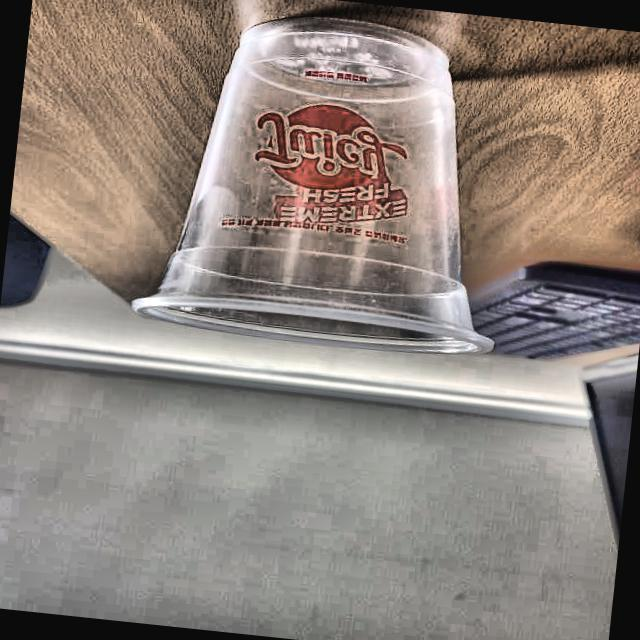plastic cup: (127, 0, 525, 363)
